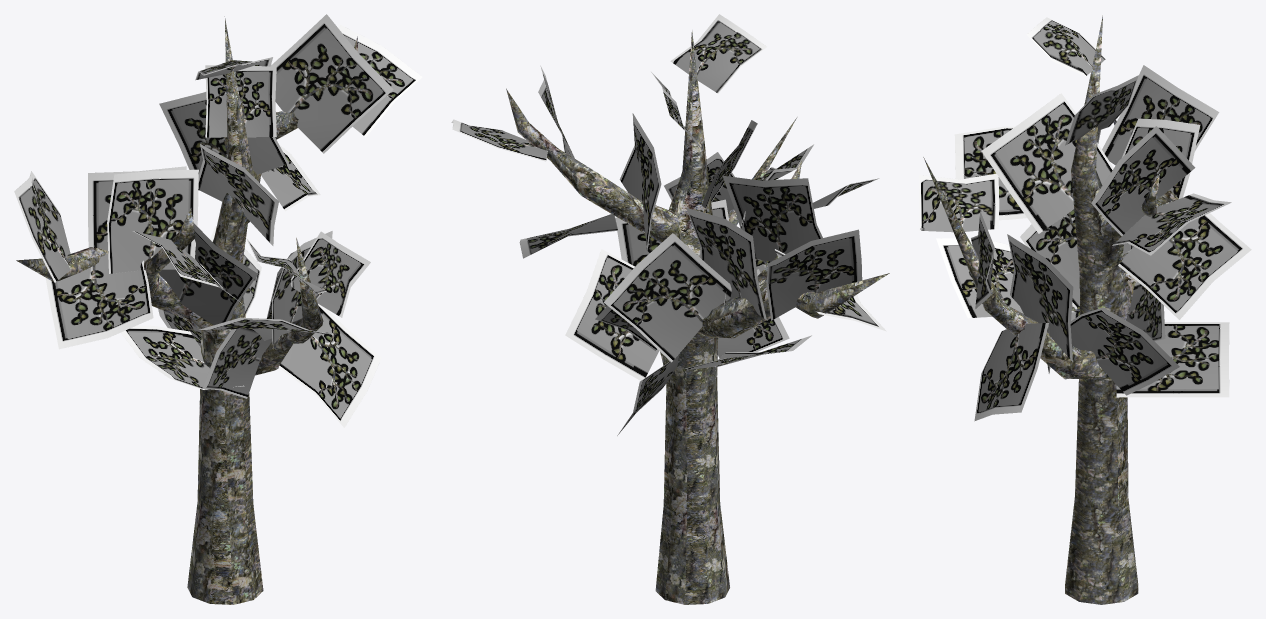
Rendered from TreeModel.fbx.
3 views of the same model, side by side, from view 1: azimuth 30°, elevation 25°; view 2: azimuth 150°, elevation 25°; view 3: azimuth 270°, elevation 25° (orthographic). The views are drawn at different scales.
Visible parts, largest first — view 1: pPlane26; view 2: pPlane26; view 3: pPlane26.
Part boxes in pixels (x1,y1,x2,y2): pPlane26: (14, 14, 422, 604); pPlane26: (451, 14, 889, 604); pPlane26: (919, 15, 1251, 604).
Bounding box in the file's own units: 1778 × 2275 × 1193.
